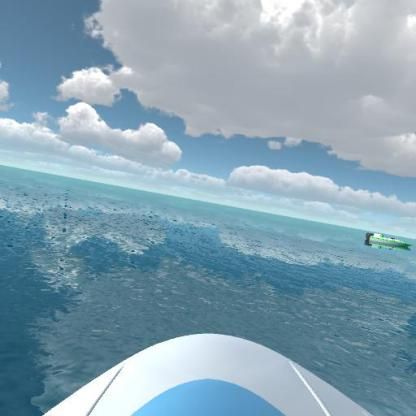usv0: (360, 227, 413, 253)
